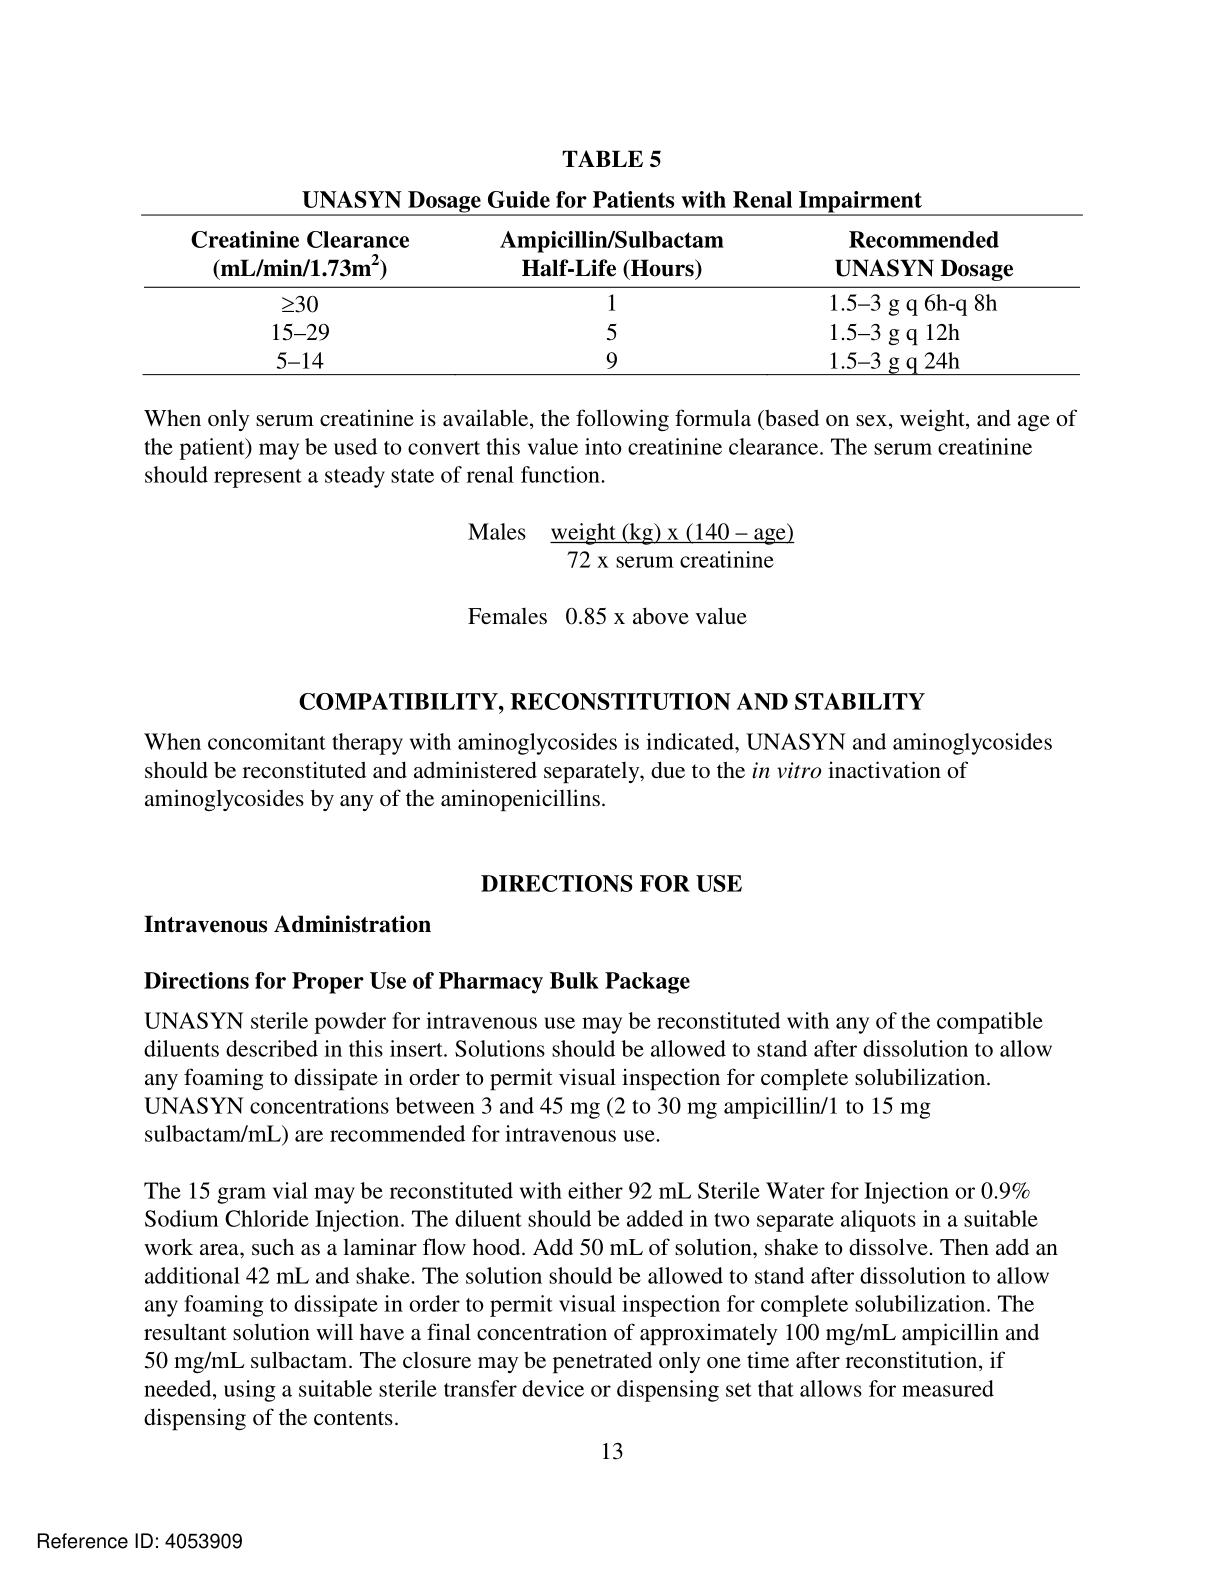partial_lined: (140, 211, 1083, 378)
